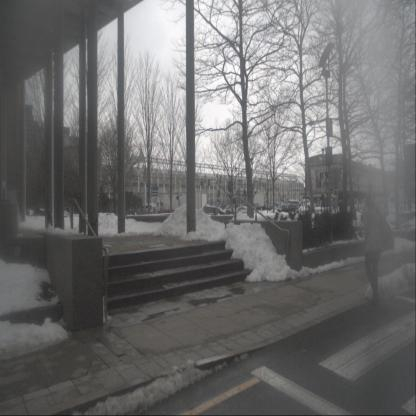human-pedestrian-adult: (362, 196, 384, 304)
vehicle-car: (235, 206, 255, 216), (285, 204, 297, 214), (277, 204, 290, 213), (302, 199, 311, 209)
vehicle-truck: (245, 194, 270, 212), (154, 197, 163, 213)
